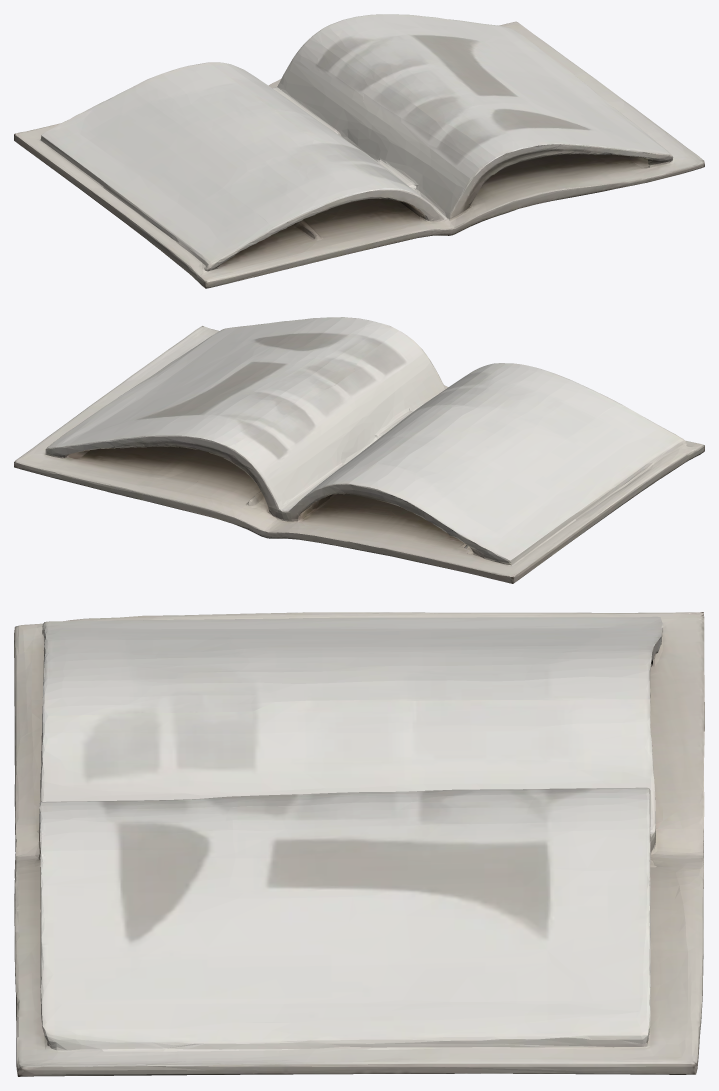
The model's file is book2.glb.
The picture shows the model from 3 angles, top to bottom: view 1: azimuth 30°, elevation 25°; view 2: azimuth 150°, elevation 25°; view 3: azimuth 270°, elevation 25°; orthographic projection. The views are drawn at different scales.
Visible parts, largest first — view 1: geometry_0; view 2: geometry_0; view 3: geometry_0.
Boxes of the visible parts, bbox=[...] form: geometry_0: bbox=[14, 14, 704, 288]; geometry_0: bbox=[14, 317, 704, 583]; geometry_0: bbox=[14, 612, 704, 1076].
Bounding box in the file's own units: 1 × 0.1362 × 0.6652.
Materials: 1 (1 with a texture image).
